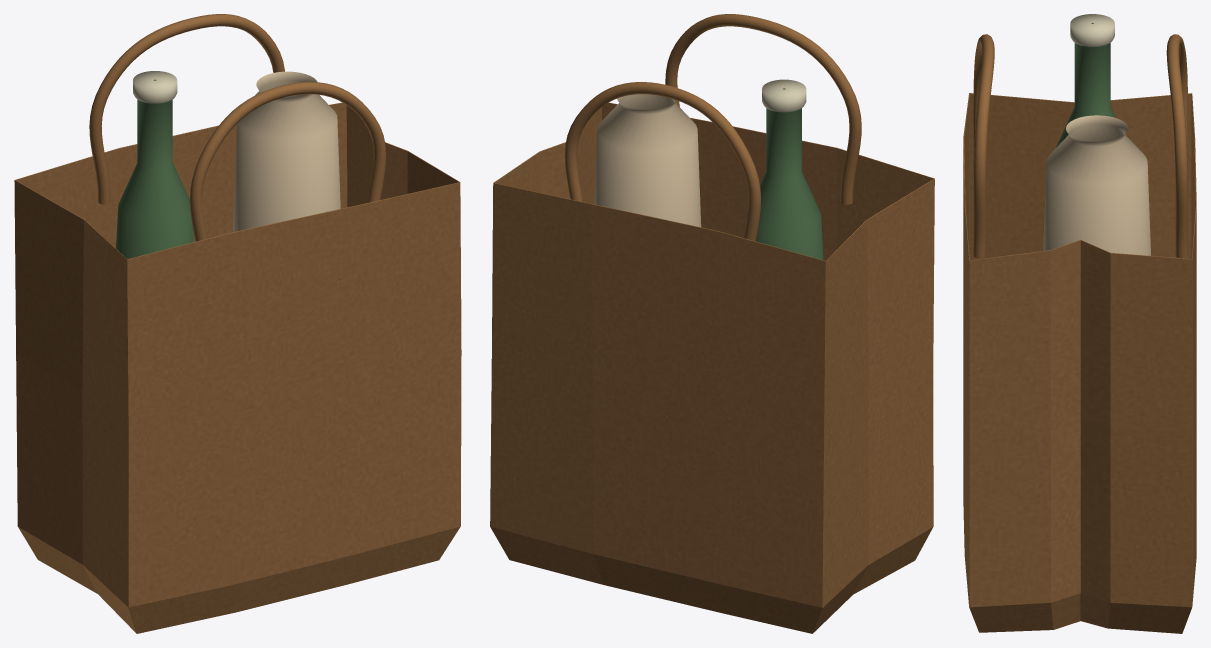
File: story-grocery-bag.glb
3 views of the same model, side by side, from view 1: azimuth 30°, elevation 25°; view 2: azimuth 150°, elevation 25°; view 3: azimuth 270°, elevation 25° (orthographic).
Parts seen in each view (by area): view 1: Folded kraft shell · open rim, Bread wrapper, Bottle · shoulder neck and lip, Paper handle -1, Paper handle 1, Bottle cap; view 2: Folded kraft shell · open rim, Bread wrapper, Bottle · shoulder neck and lip, Paper handle 1, Paper handle -1, Bottle cap; view 3: Folded kraft shell · open rim, Bread wrapper, Paper handle -1, Paper handle 1, Bottle · shoulder neck and lip, Bottle cap.
Part boxes in pixels (bbox=[...]): Folded kraft shell · open rim: bbox=[14, 102, 461, 633]; Bread wrapper: bbox=[233, 71, 340, 232]; Bottle · shoulder neck and lip: bbox=[116, 79, 193, 258]; Paper handle -1: bbox=[190, 82, 386, 241]; Paper handle 1: bbox=[89, 14, 284, 204]; Bottle cap: bbox=[133, 71, 177, 103]; Folded kraft shell · open rim: bbox=[490, 102, 934, 633]; Bread wrapper: bbox=[594, 94, 701, 227]; Bottle · shoulder neck and lip: bbox=[747, 88, 823, 260]; Paper handle 1: bbox=[564, 82, 761, 241]; Paper handle -1: bbox=[665, 14, 861, 204]; Bottle cap: bbox=[762, 79, 806, 112]; Folded kraft shell · open rim: bbox=[963, 93, 1196, 633]; Bread wrapper: bbox=[1043, 115, 1150, 255]; Paper handle -1: bbox=[973, 34, 994, 258]; Paper handle 1: bbox=[1166, 34, 1187, 258]; Bottle · shoulder neck and lip: bbox=[1056, 22, 1115, 147]; Bottle cap: bbox=[1070, 14, 1114, 46].
Size of the model in its own units: 0.2627 by 0.3791 by 0.157.
5 materials, 1 textured.
